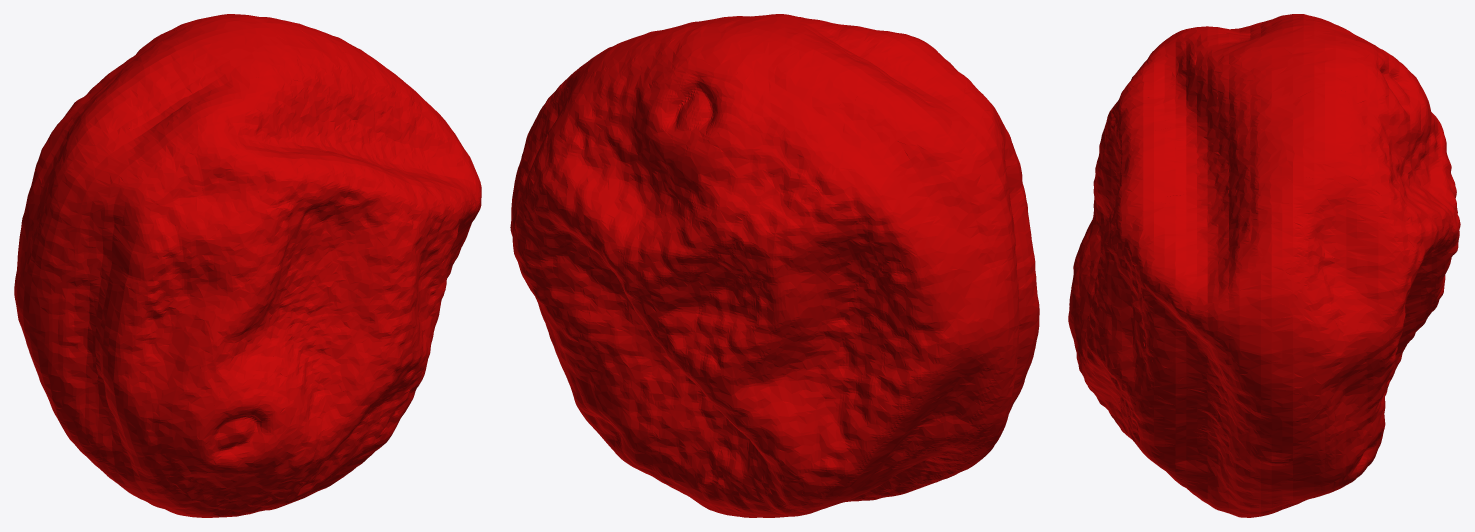
The model's file is 3DPX-020734-0.glb.
3 renders of one model, left to right at view 1: azimuth 30°, elevation 25°; view 2: azimuth 150°, elevation 25°; view 3: azimuth 270°, elevation 25°, orthographic. The views are drawn at different scales.
Size of the model in its own units: 21.02 by 20.83 by 16.27.
